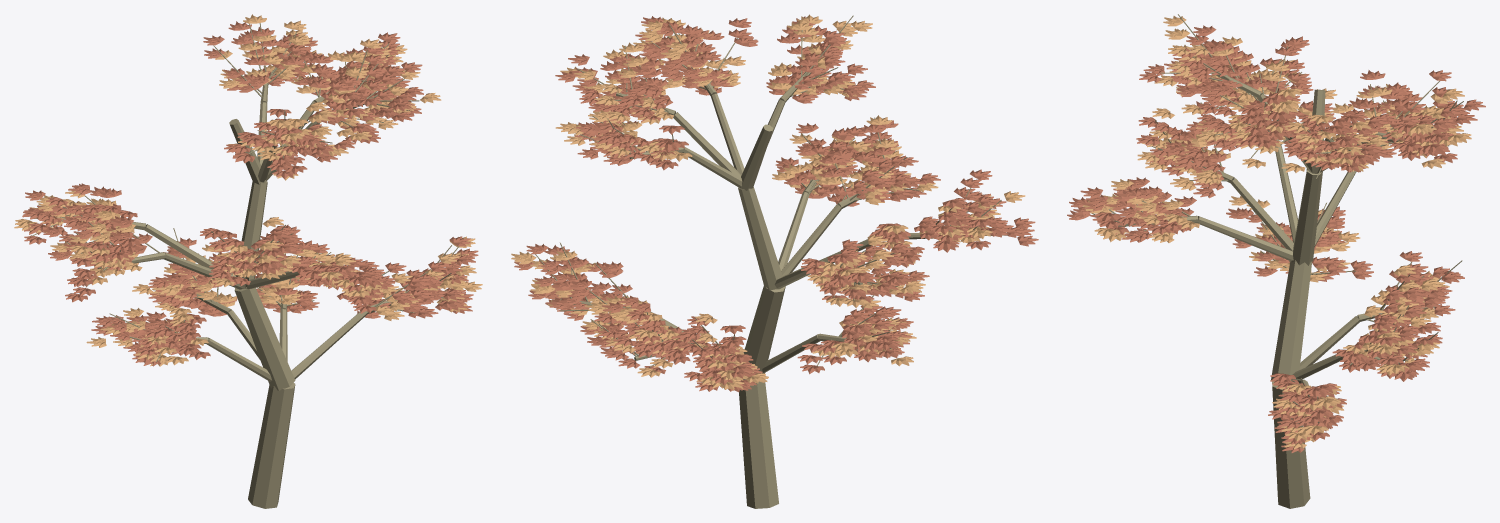
The model's file is red-maple.glb.
3 renders of one model, left to right at view 1: azimuth 30°, elevation 25°; view 2: azimuth 150°, elevation 25°; view 3: azimuth 270°, elevation 25°, orthographic. The views are drawn at different scales.
Visible parts, largest first — view 1: Sunwen_red-maple; view 2: Sunwen_red-maple; view 3: Sunwen_red-maple.
Boxes of the visible parts, <box> form: Sunwen_red-maple: <box>14,14,482,508</box>; Sunwen_red-maple: <box>511,14,1038,508</box>; Sunwen_red-maple: <box>1067,14,1485,508</box>.
Size of the model in its own units: 5.1 by 4.7 by 3.79.
